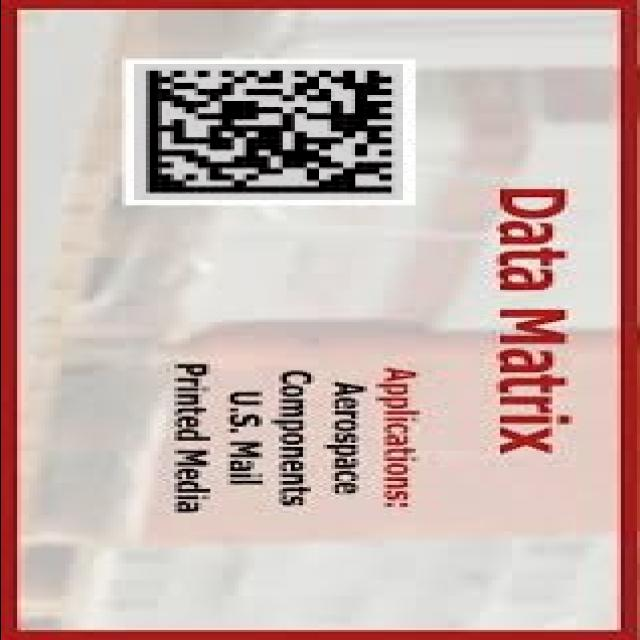DataMatrix: (133, 64, 402, 200)
